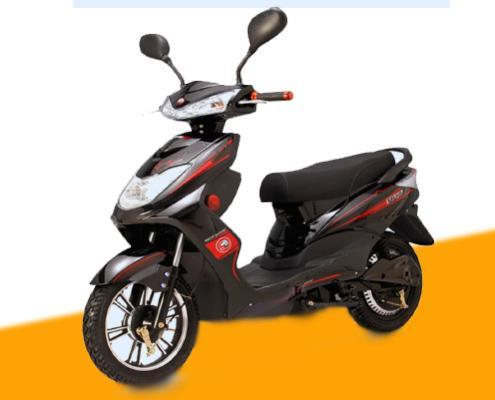motorbike: (81, 7, 435, 385)
